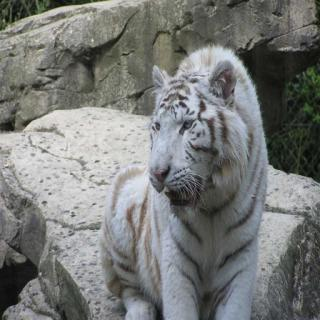Tiger: (101, 45, 272, 320)
